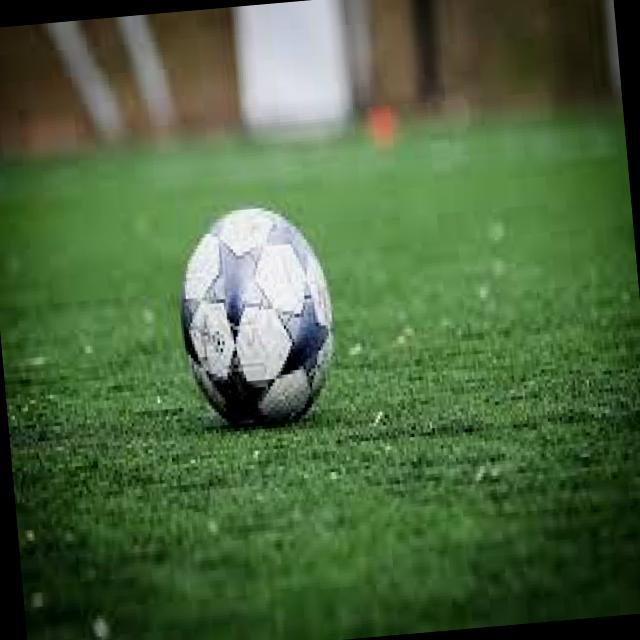Soccer Ball: (176, 202, 337, 420)
